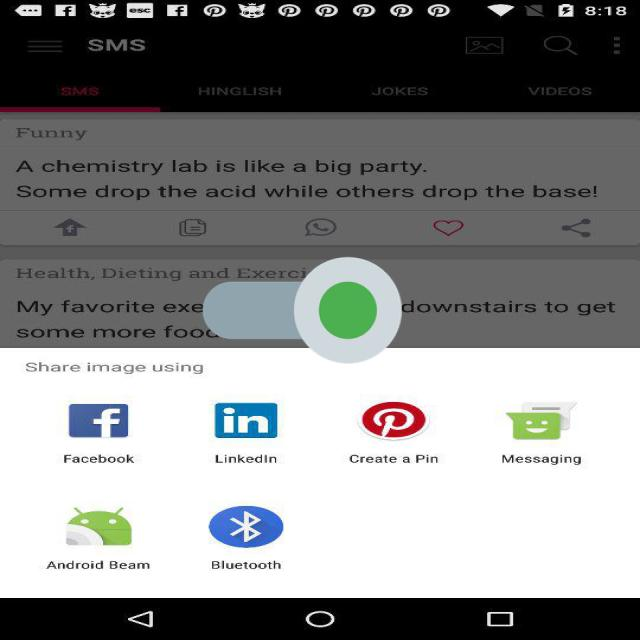social proof: (202, 212, 402, 409)
